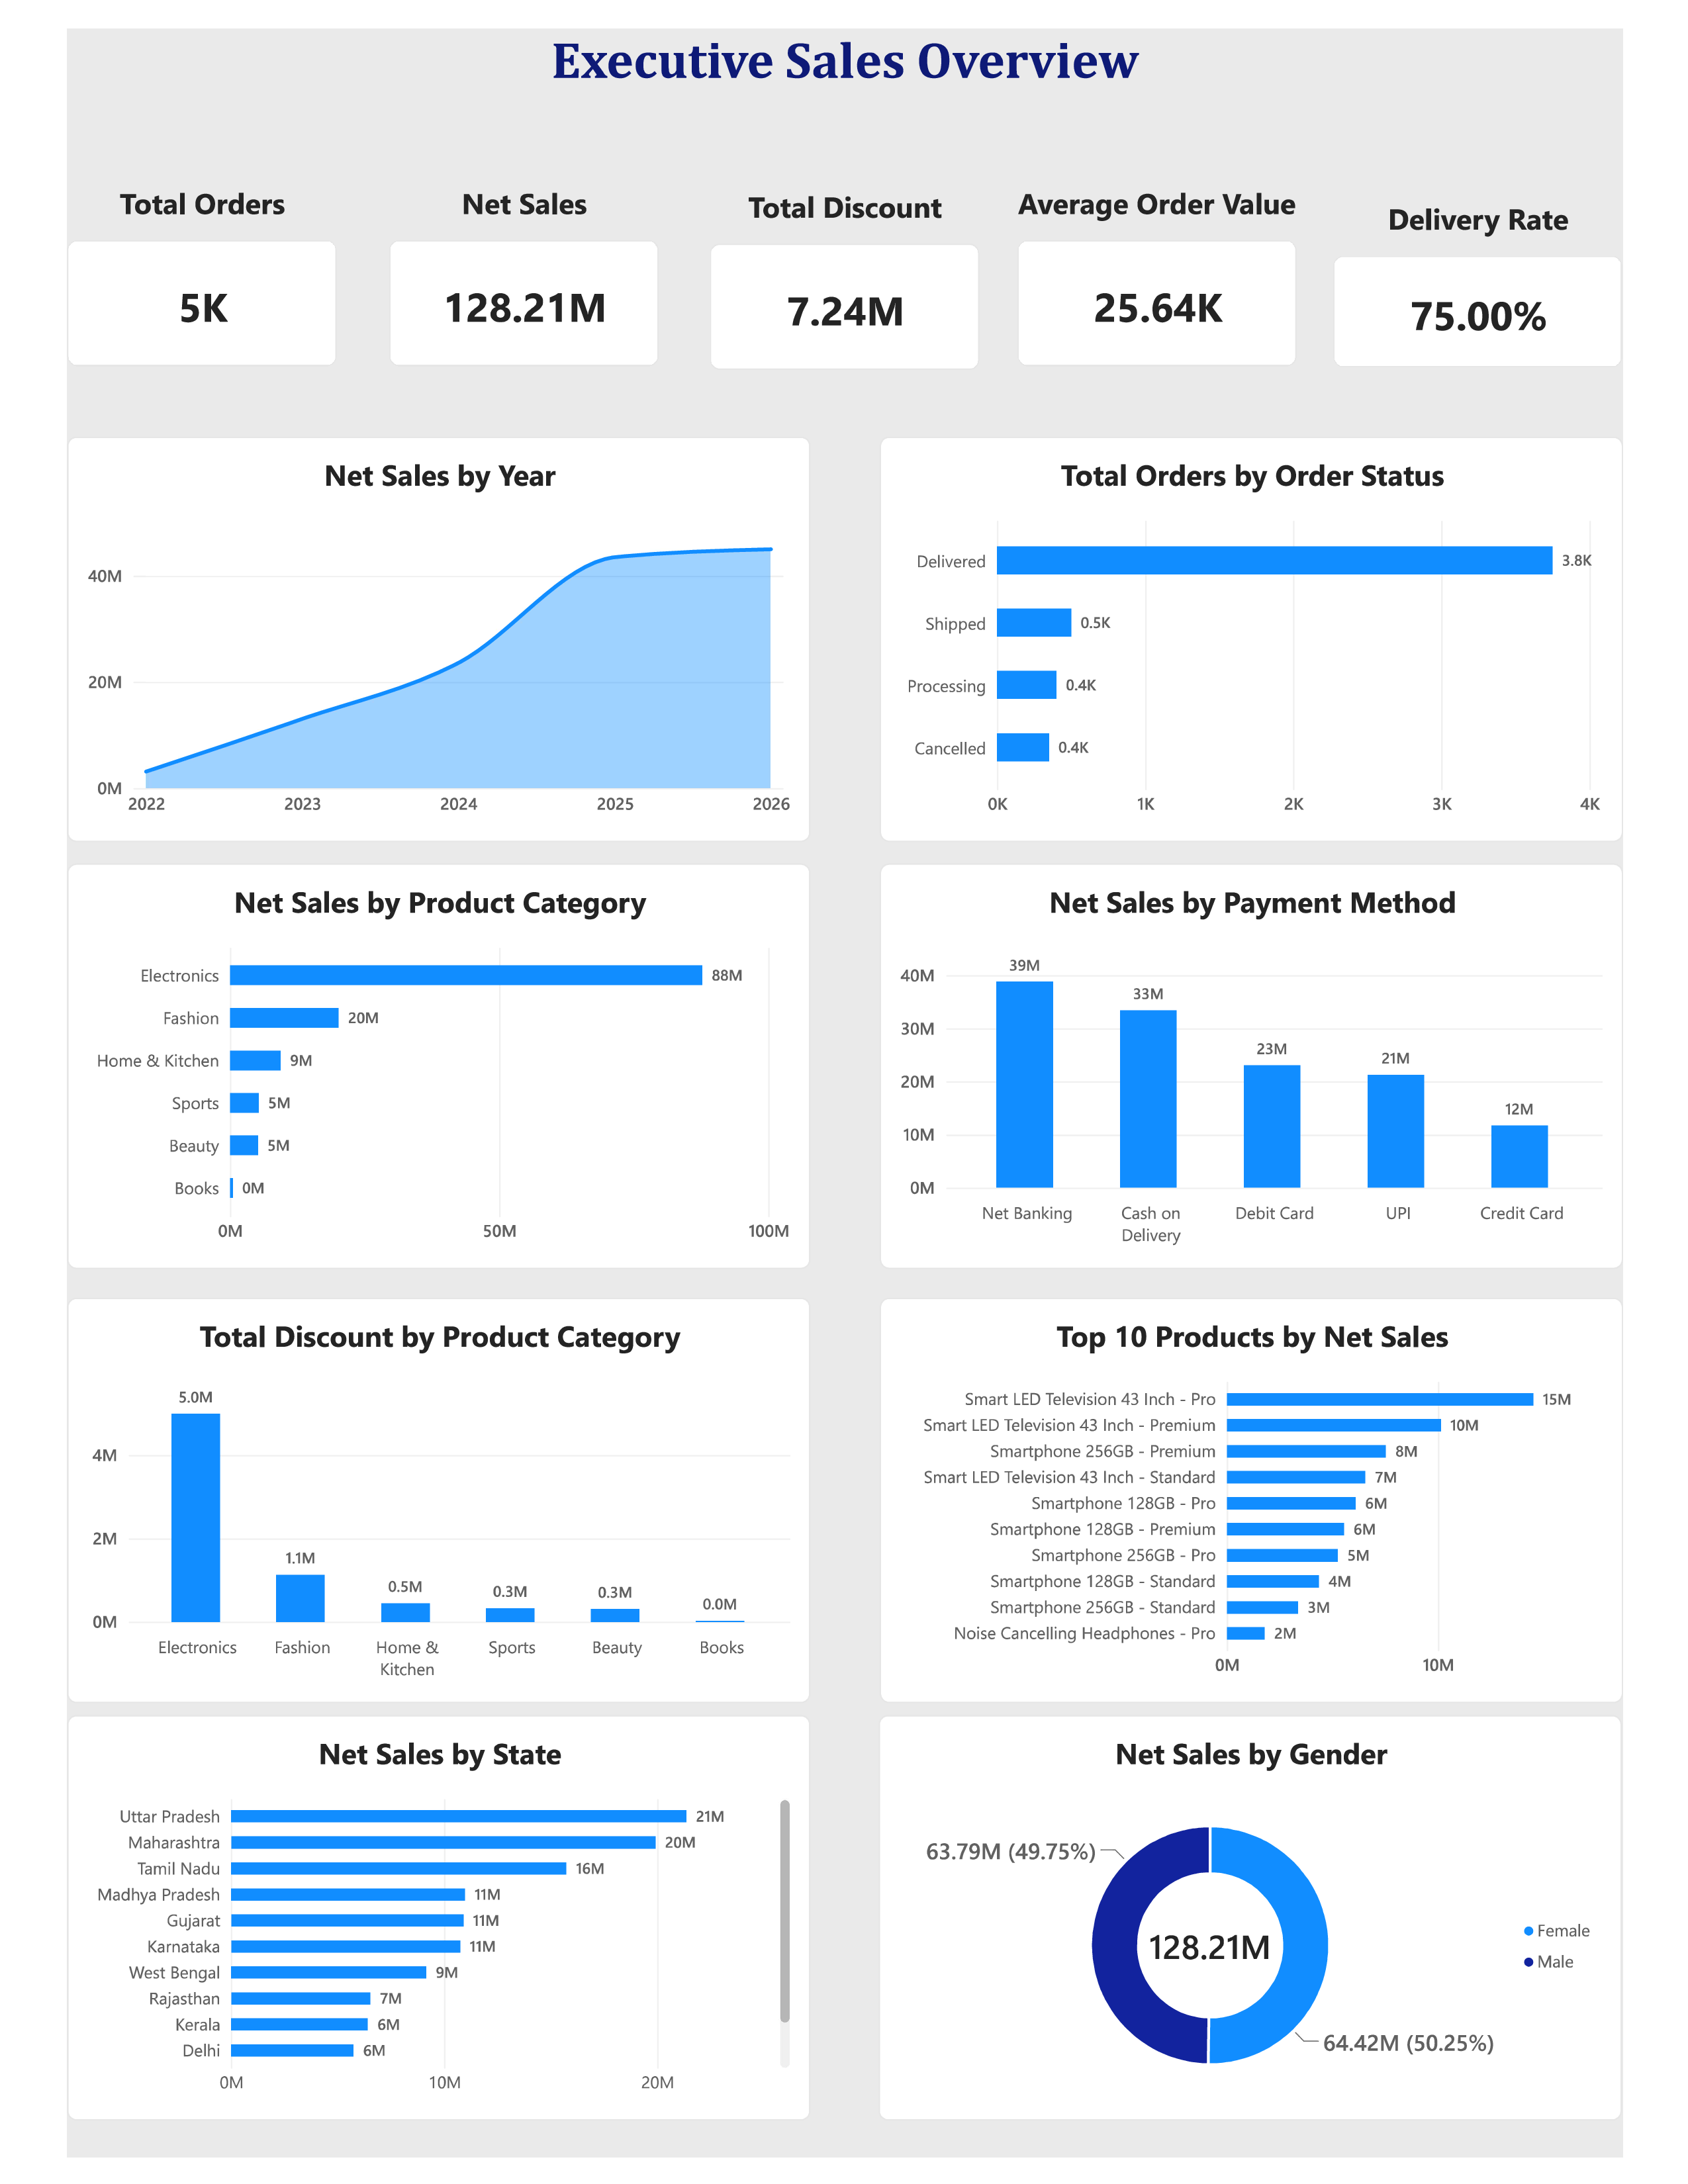

The dashboard page shown, as its layout file describes it:
{"tool":"powerbi","page":{"name":"Executive_Sales_Overview","canvas":[1300,1780],"ordinal":0},"visuals":[{"type":"cardVisual","title":"Total Orders","fields":{"Data":["ecommercesalesdb orders.Total_Orders"]},"box":[0,129,225.8,153.2],"z":0},{"type":"cardVisual","title":"Net Sales","fields":{"Data":["ecommercesalesdb orderdetails.Net_Sales"]},"box":[269.4,129,225.8,153.2],"z":1000},{"type":"cardVisual","title":"Total Discount","fields":{"Data":["ecommercesalesdb orderdetails.Total_Discount"]},"box":[537.1,132.3,225.8,153.2],"z":2000},{"type":"cardVisual","title":"Average Order Value","fields":{"Data":["ecommercesalesdb orders.Average_Order_Value"]},"box":[793.5,129,233.9,153.2],"z":3000},{"type":"lineChart","title":"Net Sales by Year","fields":{"Y":["ecommercesalesdb orderdetails.Net_Sales"],"Category":["ecommercesalesdb orders.OrderDate.Variation.Date Hierarchy.Year","ecommercesalesdb orders.OrderDate.Variation.Date Hierarchy.Quarter","ecommercesalesdb orders.OrderDate.Variation.Date Hierarchy.Month","ecommercesalesdb orders.OrderDate.Variation.Date Hierarchy.Day"]},"box":[0,340.9,621.2,339.4],"z":4000},{"type":"barChart","title":"Total Orders by Order Status","fields":{"Y":["ecommercesalesdb orders.Total_Orders"],"Category":["ecommercesalesdb orders.OrderStatus"]},"box":[678.8,340.9,621.2,339.4],"z":5000},{"type":"barChart","title":"Net Sales by Product Category","fields":{"Category":["ecommercesalesdb products.Category"],"Y":["ecommercesalesdb orderdetails.Net_Sales"]},"box":[0,698.5,621,339],"z":6000},{"type":"clusteredColumnChart","title":"Net Sales by Payment Method","fields":{"Y":["ecommercesalesdb orderdetails.Net_Sales"],"Category":["ecommercesalesdb orders.PaymentMethod"]},"box":[678.8,698.5,621,339],"z":7000},{"type":"clusteredColumnChart","title":"Total Discount by Product Category","fields":{"Category":["ecommercesalesdb products.Category"],"Y":["ecommercesalesdb orderdetails.Total_Discount"]},"box":[0,1060.9,621,339],"z":8000},{"type":"clusteredBarChart","title":"Top 10 Products by Net Sales","fields":{"Category":["ecommercesalesdb products.ProductName"],"Y":["ecommercesalesdb orderdetails.Net_Sales"]},"box":[678.8,1060.6,621,339],"z":9000},{"type":"clusteredBarChart","title":"Net Sales by State","fields":{"Category":["ecommercesalesdb customers.State"],"Y":["ecommercesalesdb orderdetails.Net_Sales"]},"box":[0,1410,621,339],"z":10000},{"type":"cardVisual","title":"Delivery Rate","fields":{"Data":["ecommercesalesdb orders.Delivery_Rate"]},"box":[1058.1,141.9,241.9,141.9],"z":11000},{"type":"donutChart","title":"Net Sales by Gender","fields":{"Category":["ecommercesalesdb customers.Gender"],"Y":["ecommercesalesdb orderdetails.Net_Sales"]},"box":[678.3,1410.1,620.3,339.1],"z":12000},{"type":"textbox","box":[0,0,1300,66.1],"z":13000}]}

Visuals, with their boxes on the page's 1300x1780 design canvas (x1, y1, x2, y2). These are canvas units, not pixel positions in the 1688x2184 screenshot, which may show the page scaled, cropped or inside an application window:
"Total Orders" cardVisual: select_region(0, 129, 226, 282)
"Net Sales" cardVisual: select_region(269, 129, 495, 282)
"Total Discount" cardVisual: select_region(537, 132, 763, 286)
"Average Order Value" cardVisual: select_region(794, 129, 1027, 282)
"Net Sales by Year" lineChart: select_region(0, 341, 621, 680)
"Total Orders by Order Status" barChart: select_region(679, 341, 1300, 680)
"Net Sales by Product Category" barChart: select_region(0, 698, 621, 1038)
"Net Sales by Payment Method" clusteredColumnChart: select_region(679, 698, 1300, 1038)
"Total Discount by Product Category" clusteredColumnChart: select_region(0, 1061, 621, 1400)
"Top 10 Products by Net Sales" clusteredBarChart: select_region(679, 1061, 1300, 1400)
"Net Sales by State" clusteredBarChart: select_region(0, 1410, 621, 1749)
"Delivery Rate" cardVisual: select_region(1058, 142, 1300, 284)
"Net Sales by Gender" donutChart: select_region(678, 1410, 1299, 1749)
textbox: select_region(0, 0, 1300, 66)
